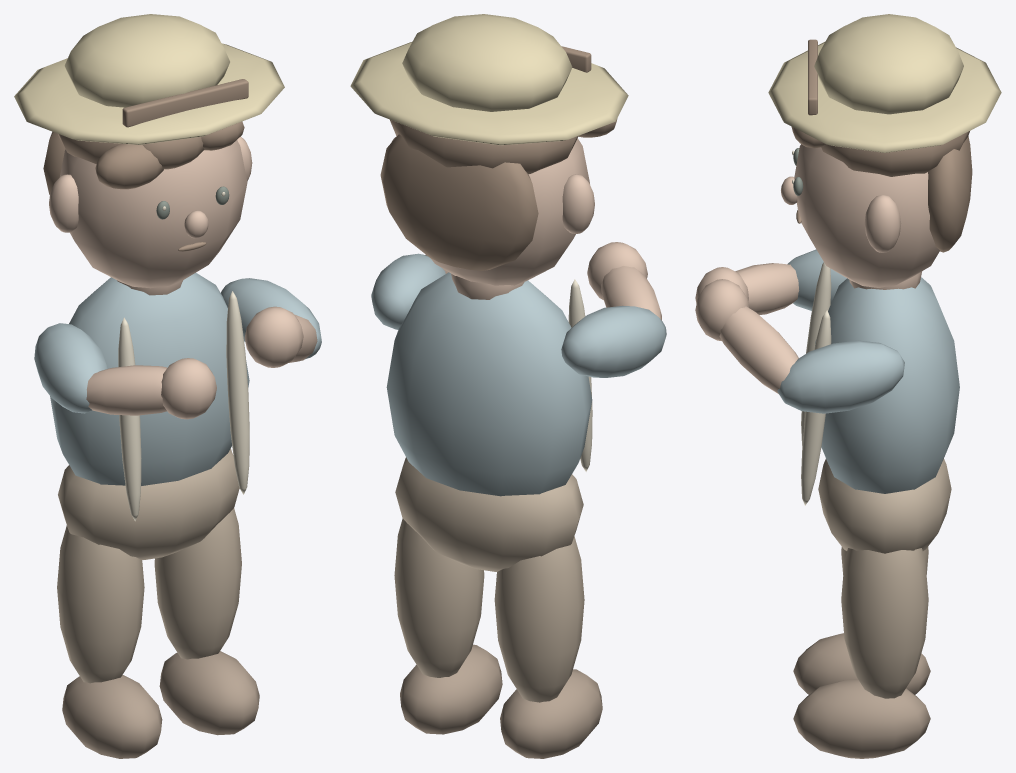
The model's file is daddy-work.glb.
The picture shows the model from 3 angles, left to right: view 1: azimuth 30°, elevation 25°; view 2: azimuth 150°, elevation 25°; view 3: azimuth 270°, elevation 25°; orthographic projection. The views are drawn at different scales.
Parts seen in each view (by area): view 1: Padded shirt.011, Head.011, Straw crown.002, Soft trouser seat.011, Soft straw brim.002, Trouser leg.022, Trouser leg.023, Rounded boot.023, Rounded boot.022, Shirt sleeve.022, Forearm.022, Suspenders.005 (+13 smaller); view 2: Padded shirt.011, Hair back.011, Straw crown.002, Soft straw brim.002, Soft trouser seat.011, Trouser leg.022, Trouser leg.023, Rounded boot.022, Rounded boot.023, Shirt sleeve.022, Head.011, Hair crown.011 (+6 smaller); view 3: Padded shirt.011, Head.011, Straw crown.002, Trouser leg.023, Soft straw brim.002, Rounded boot.023, Soft trouser seat.011, Shirt sleeve.023, Forearm.023, Hair back.011, Rounded boot.022, Hair crown.011 (+8 smaller).
Boxes of the visible parts, x1,y1,x2,y2 form: Padded shirt.011: (50,273,249,485); Head.011: (60,140,247,288); Straw crown.002: (64,14,229,107); Soft trouser seat.011: (58,448,239,559); Soft straw brim.002: (14,43,284,144); Trouser leg.022: (57,525,144,683); Trouser leg.023: (154,508,241,659); Rounded boot.023: (159,651,259,735); Rounded boot.022: (62,675,162,758); Shirt sleeve.022: (34,323,107,413); Forearm.022: (86,365,167,415); Suspenders.005: (226,291,249,494); Padded shirt.011: (386,272,592,496); Hair back.011: (380,134,538,270); Straw crown.002: (402,14,572,111); Soft straw brim.002: (350,42,628,145); Soft trouser seat.011: (395,457,583,571); Trouser leg.022: (494,536,584,702); Trouser leg.023: (394,518,484,677); Rounded boot.022: (500,669,602,758); Rounded boot.023: (400,644,502,734); Shirt sleeve.022: (561,305,666,377); Head.011: (431,138,589,285); Hair crown.011: (390,119,578,174); Padded shirt.011: (815,277,959,493); Head.011: (794,144,939,287); Straw crown.002: (814,14,963,114); Trouser leg.023: (841,548,928,698); Soft straw brim.002: (768,41,1001,152); Rounded boot.023: (793,679,930,758); Soft trouser seat.011: (818,459,951,553); Shirt sleeve.023: (777,340,904,413); Forearm.023: (719,306,798,393); Hair back.011: (928,136,972,252); Rounded boot.022: (793,633,930,694); Hair crown.011: (821,131,969,176).
Bounding box in the file's own units: 0.7562 × 1.93 × 0.7644.
